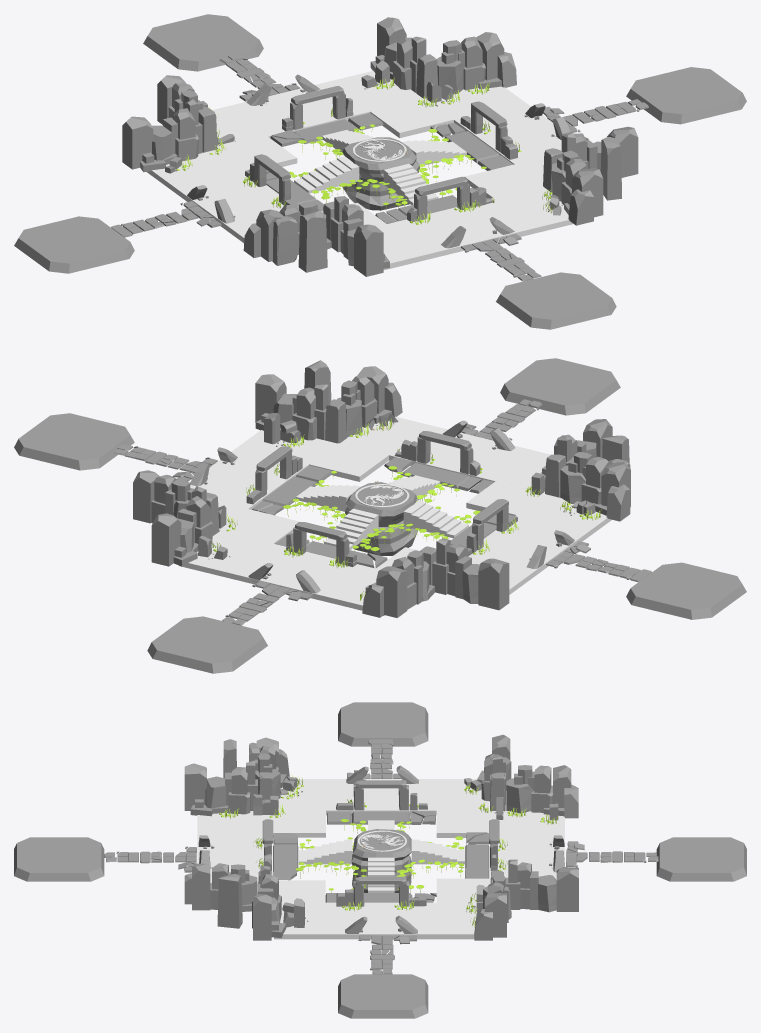
The model's file is demo1.fbx.
3 renders of one model, top to bottom at view 1: azimuth 30°, elevation 25°; view 2: azimuth 150°, elevation 25°; view 3: azimuth 270°, elevation 25°, orthographic. The views are drawn at different scales.
Parts seen in each view (by area): view 1: pCube20, Rock_Square_l_18, Rock_Square_l_15, pCube18, Rock_Square_l_17, Rock_Square_l_16, pCube15, Rock_Tile_m_25, Rock_Tile_m_23, Rock_Tile_m_24, pCube17, Rock_Tile_m_22 (+26 smaller); view 2: Rock_Square_l_15, Rock_Square_l_17, pCube18, Rock_Square_l_18, Rock_Square_l_16, pCube20, pCube15, Rock_Tile_m_22, Rock_Tile_m_25, Rock_Tile_m_24, Rock_Tile_m_23, pCube17 (+27 smaller); view 3: pCube17, pCube15, Rock_Square_l_18, Rock_Square_l_16, Rock_Square_l_15, Rock_Square_l_17, Rock_Tile_m_23, Rock_Tile_m_24, Rock_Tile_m_22, Rock_Tile_m_25, pCube18, pCube20 (+19 smaller).
Part boxes in pixels (left/top/right/bottom): pCube20: left=376, top=186, right=573, bottom=270; Rock_Square_l_18: left=370, top=17, right=516, bottom=98; Rock_Square_l_15: left=122, top=75, right=217, bottom=172; pCube18: left=212, top=70, right=422, bottom=148; Rock_Square_l_17: left=543, top=126, right=638, bottom=225; Rock_Square_l_16: left=243, top=196, right=389, bottom=276; pCube15: left=147, top=149, right=283, bottom=242; Rock_Tile_m_25: left=14, top=216, right=134, bottom=273; Rock_Tile_m_23: left=496, top=272, right=616, bottom=329; Rock_Tile_m_24: left=626, top=67, right=746, bottom=124; pCube17: left=425, top=86, right=561, bottom=184; Rock_Tile_m_22: left=143, top=14, right=263, bottom=71; Rock_Square_l_15: left=362, top=538, right=509, bottom=617; Rock_Square_l_17: left=255, top=366, right=402, bottom=443; pCube18: left=179, top=531, right=384, bottom=615; Rock_Square_l_18: left=133, top=470, right=219, bottom=566; Rock_Square_l_16: left=545, top=419, right=630, bottom=521; pCube20: left=340, top=416, right=550, bottom=493; pCube15: left=468, top=494, right=611, bottom=594; Rock_Tile_m_22: left=147, top=616, right=267, bottom=673; Rock_Tile_m_25: left=626, top=562, right=746, bottom=619; Rock_Tile_m_24: left=14, top=413, right=134, bottom=470; Rock_Tile_m_23: left=500, top=358, right=620, bottom=415; pCube17: left=189, top=430, right=337, bottom=529; pCube17: left=274, top=902, right=476, bottom=939; pCube15: left=278, top=779, right=489, bottom=815; Rock_Square_l_18: left=474, top=859, right=578, bottom=940; Rock_Square_l_16: left=184, top=737, right=289, bottom=816; Rock_Square_l_15: left=477, top=734, right=578, bottom=818; Rock_Square_l_17: left=184, top=863, right=286, bottom=940; Rock_Tile_m_23: left=14, top=837, right=104, bottom=881; Rock_Tile_m_24: left=338, top=974, right=428, bottom=1018; Rock_Tile_m_22: left=656, top=837, right=746, bottom=881; Rock_Tile_m_25: left=338, top=702, right=428, bottom=746; pCube18: left=490, top=811, right=564, bottom=883; pCube20: left=197, top=811, right=272, bottom=893.
Bounding box in the file's own units: 137 × 15.09 × 137.
